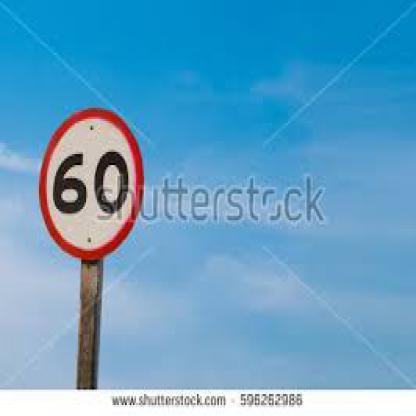Speed Limit 60: (43, 110, 140, 253)
